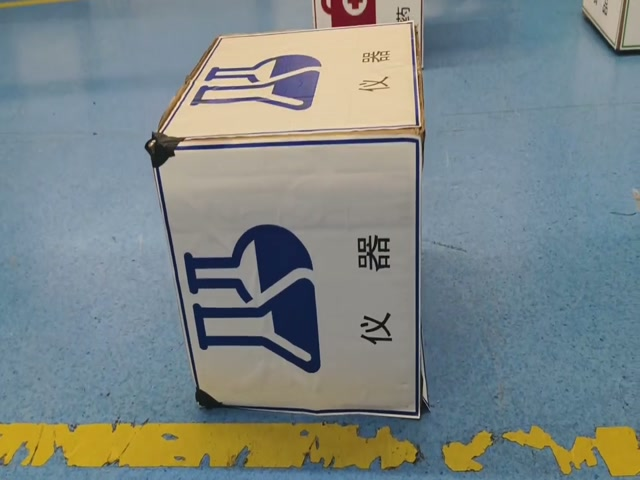Cube_ins: (148, 24, 426, 144)
